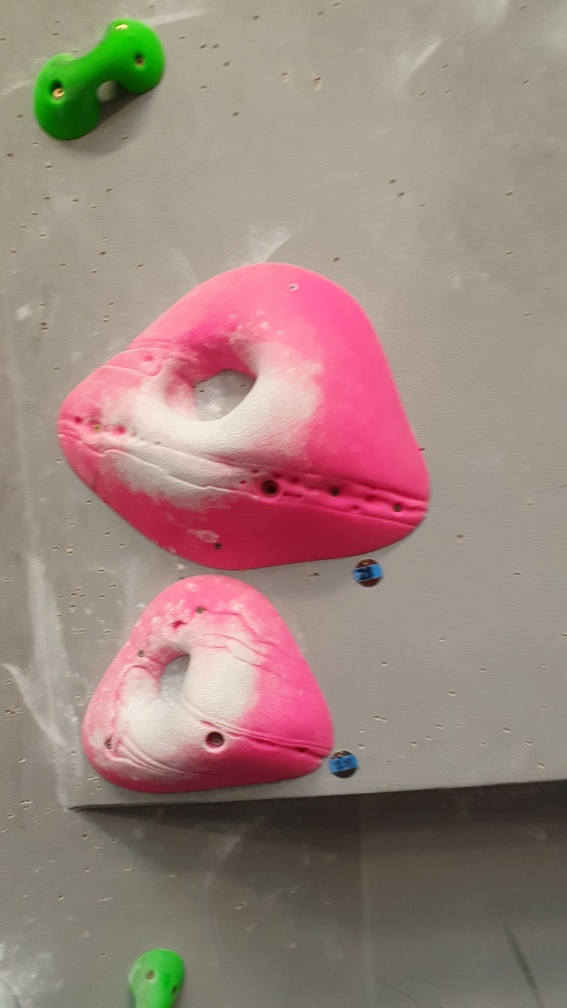Hand Start: (349, 555, 388, 598), (327, 743, 361, 784)
Pocket: (55, 263, 437, 572), (77, 573, 343, 794)
